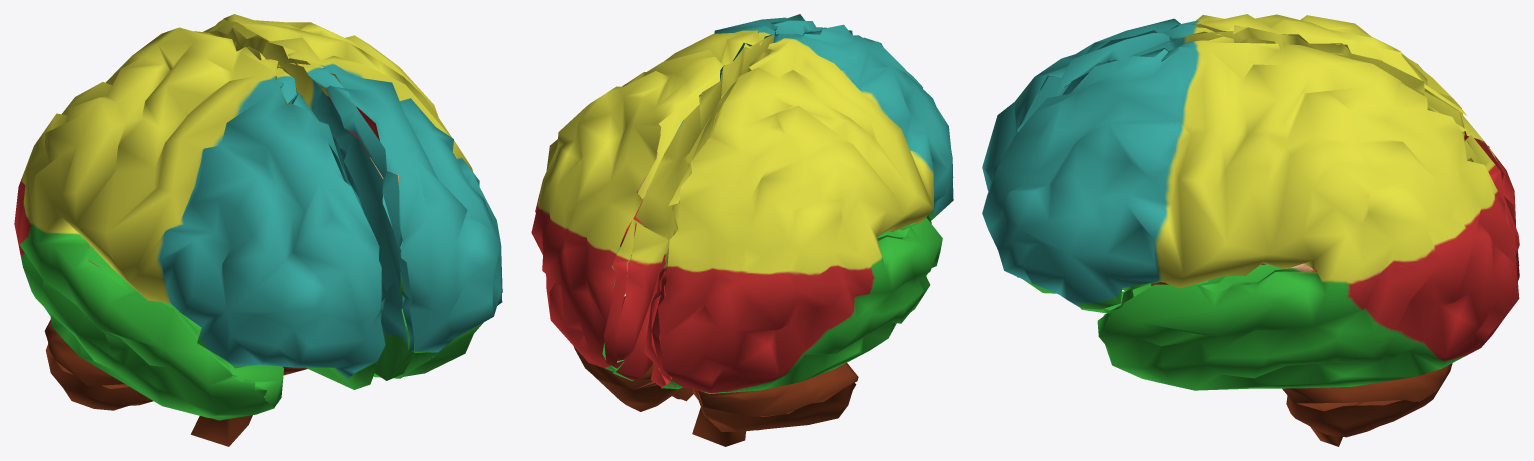
The model's file is bff.glb.
3 views of the same model, side by side, from view 1: azimuth 30°, elevation 25°; view 2: azimuth 150°, elevation 25°; view 3: azimuth 270°, elevation 25° (orthographic). The views are drawn at different scales.
Parts seen in each view (by area): view 1: Brain_Part_06; view 2: Brain_Part_06; view 3: Brain_Part_06.
Boxes of the visible parts, <box> form: Brain_Part_06: <box>14,14,502,446</box>; Brain_Part_06: <box>531,14,953,446</box>; Brain_Part_06: <box>982,14,1519,446</box>.
Bounding box in the file's own units: 1.08 × 1.12 × 1.32.
Materials: 1 (1 with a texture image).
